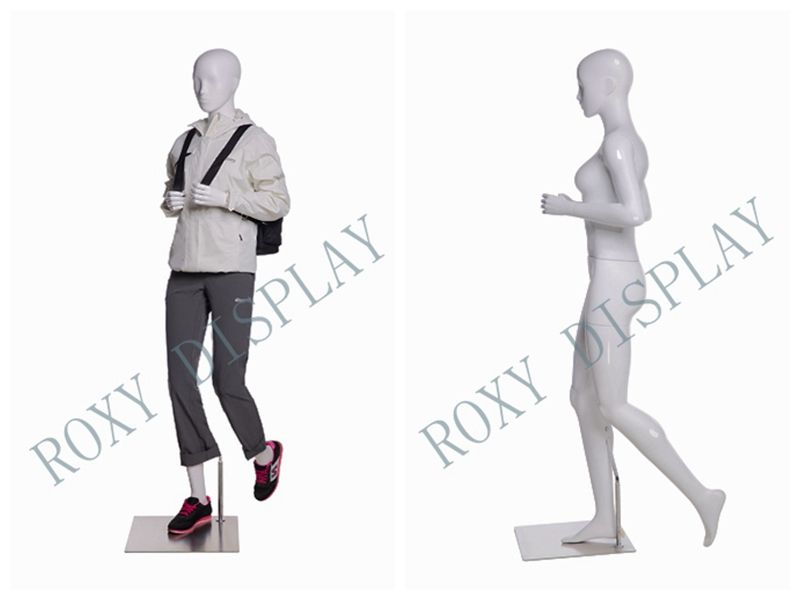person-like: (536, 43, 729, 561), (147, 44, 296, 543)
